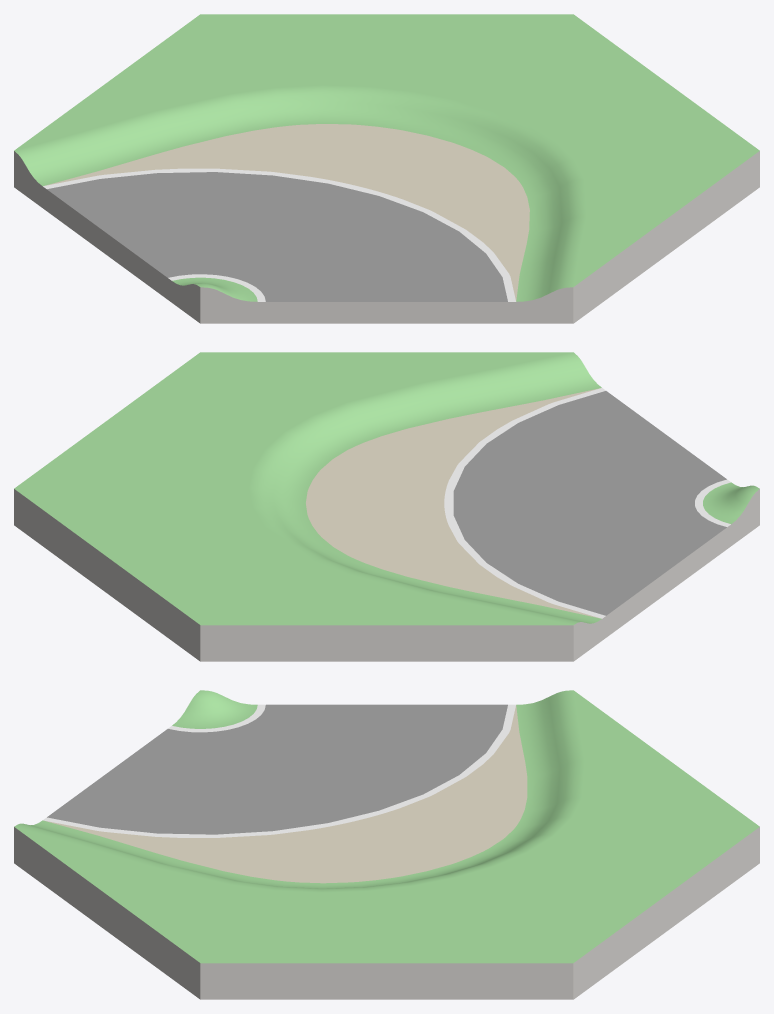
The model's file is Track_Flat_Curve_Sharp_Runoff.glb.
3 renders of one model, top to bottom at view 1: azimuth 30°, elevation 25°; view 2: azimuth 150°, elevation 25°; view 3: azimuth 270°, elevation 25°, orthographic.
Visible parts, largest first — view 1: object1; view 2: object1; view 3: object1.
Boxes of the visible parts, box(x1,y1,x2,y2) form: object1: box(14, 14, 759, 323); object1: box(14, 352, 759, 661); object1: box(14, 690, 759, 999).
Size of the model in its own units: 1 by 0.0625 by 1.15.
